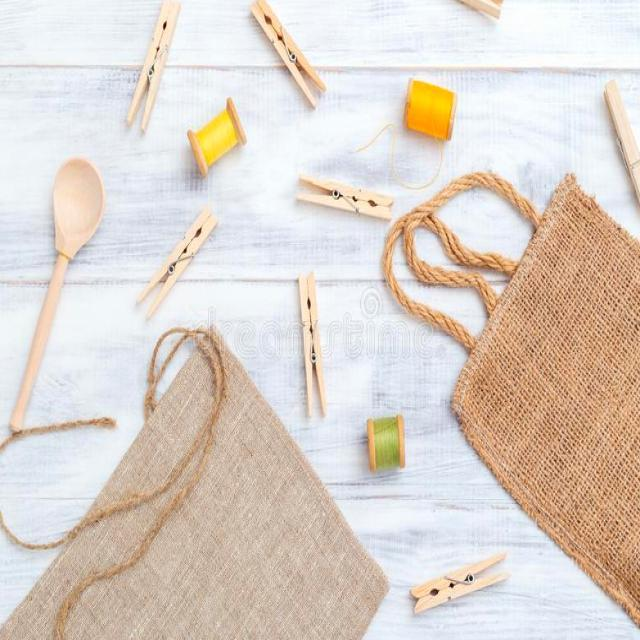clothes: (0, 288, 383, 640), (397, 153, 640, 621)
